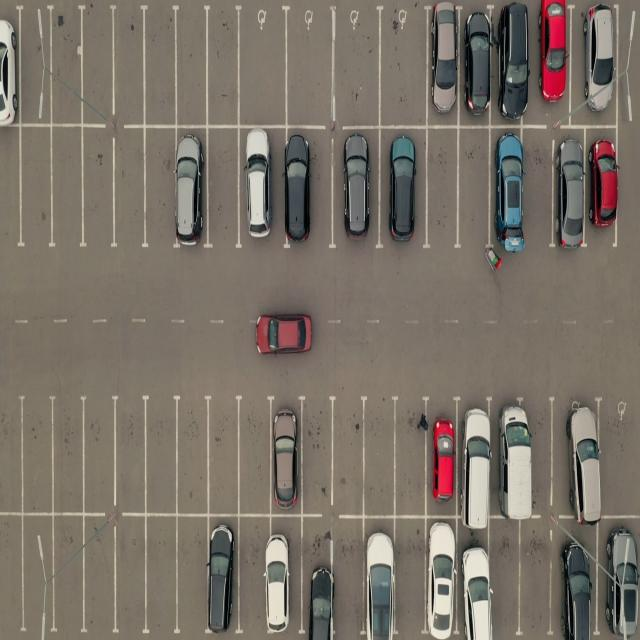space-empty: (238, 8, 289, 126), (287, 10, 337, 126), (377, 7, 425, 127), (334, 8, 381, 126), (45, 516, 87, 633), (46, 5, 86, 126), (600, 402, 640, 518), (48, 128, 86, 250), (142, 6, 180, 127), (15, 127, 52, 251), (77, 4, 114, 125), (113, 5, 150, 126), (175, 7, 212, 127), (78, 131, 115, 251), (49, 399, 87, 515), (16, 399, 54, 515), (112, 398, 150, 514), (205, 7, 242, 126), (458, 128, 494, 250), (175, 396, 213, 511), (17, 515, 54, 633), (393, 399, 430, 516), (78, 398, 115, 515), (141, 130, 177, 250), (112, 131, 148, 251), (143, 396, 180, 512), (206, 128, 242, 247), (79, 515, 115, 633), (330, 397, 367, 511), (142, 517, 178, 633), (359, 398, 395, 514), (238, 396, 274, 512), (520, 522, 556, 637), (176, 516, 211, 634), (205, 396, 240, 512), (424, 126, 458, 245), (396, 519, 430, 638), (297, 398, 333, 510), (114, 517, 148, 633), (488, 518, 521, 636), (15, 8, 48, 124), (525, 127, 555, 247), (0, 515, 24, 635), (0, 396, 24, 515), (0, 128, 22, 251)
space-occupied: (303, 519, 364, 640), (282, 130, 332, 250), (552, 396, 600, 519), (492, 398, 538, 521), (255, 513, 300, 636), (333, 130, 379, 248), (382, 125, 428, 243), (574, 1, 618, 123), (241, 129, 285, 249), (600, 519, 640, 637), (551, 536, 596, 639), (459, 396, 497, 516), (535, 1, 572, 122), (489, 128, 525, 251), (299, 516, 335, 638), (493, 4, 529, 123), (426, 6, 461, 126), (424, 397, 459, 516), (362, 517, 396, 638), (459, 518, 493, 638), (424, 518, 458, 637), (177, 130, 210, 250), (268, 396, 303, 509), (554, 130, 587, 246), (464, 8, 496, 124), (207, 515, 238, 633), (585, 127, 615, 241), (0, 6, 22, 124)
